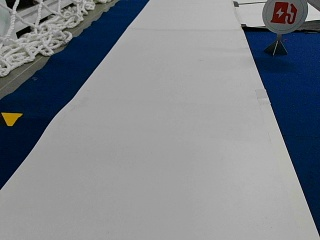battery: (261, 0, 307, 33)
